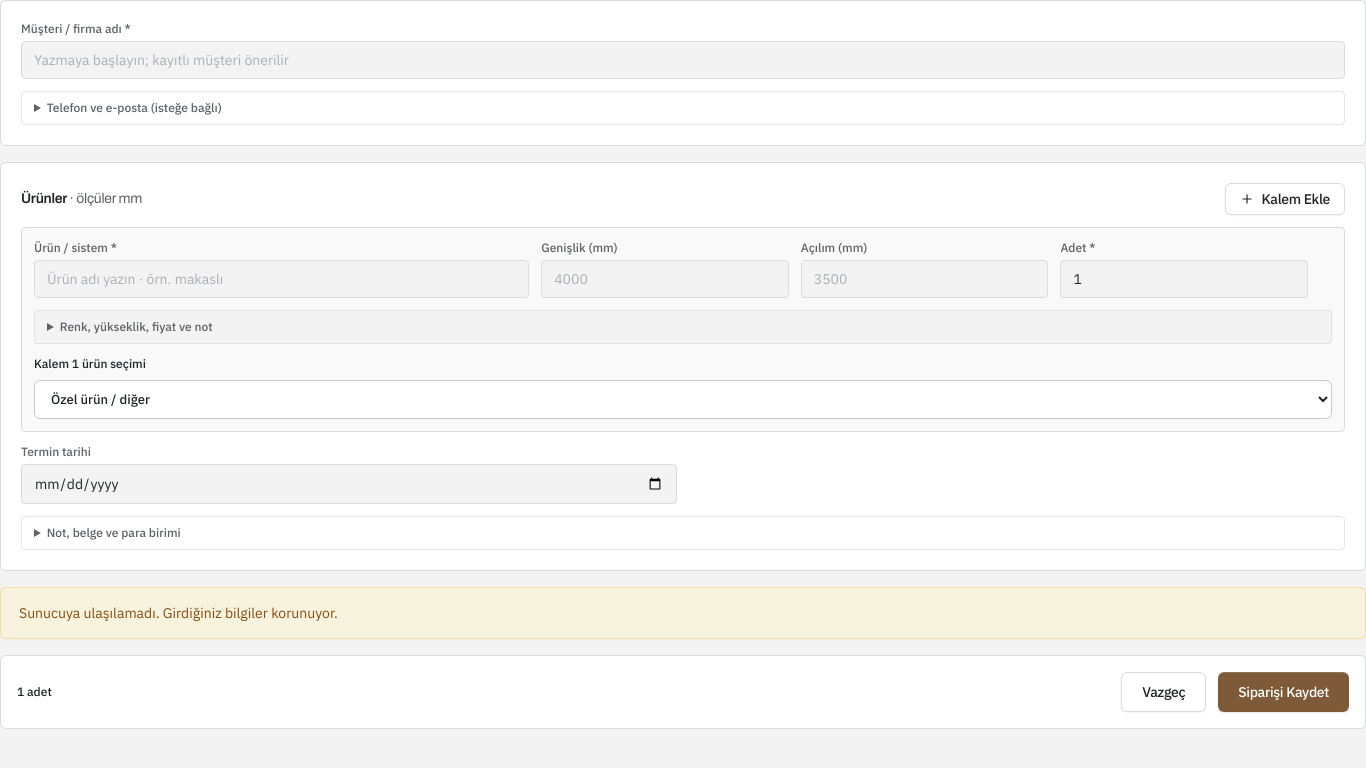
it: reports invalid dimensions without submitting and preserves the form after a server error
Step 1. Type "Renk Test" into the field labelled "Müşteri / firma adı *" → (683, 60), box [21,41,1345,79]
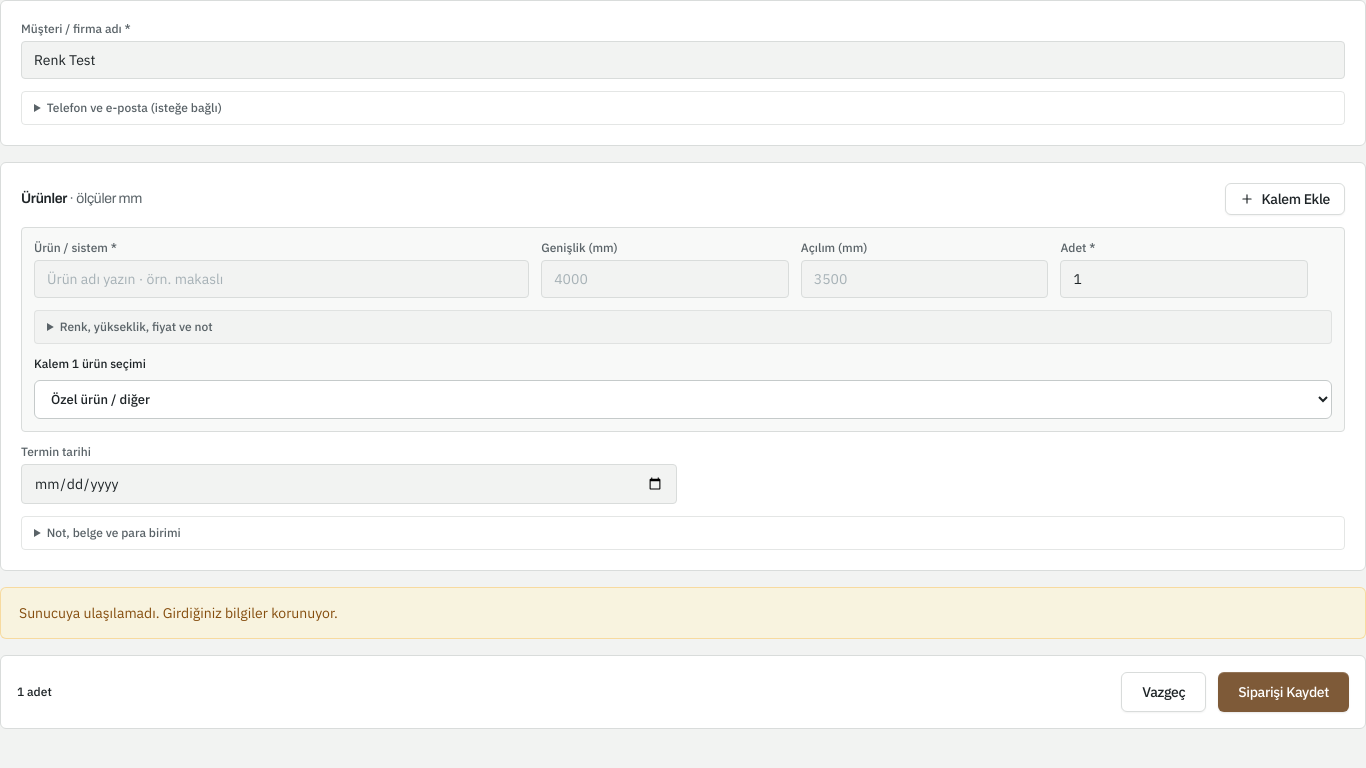
Step 2. Type "Profil çerçeve" into the dropdown labelled "Ürün / sistem *" → (282, 279), box [34,260,529,298]
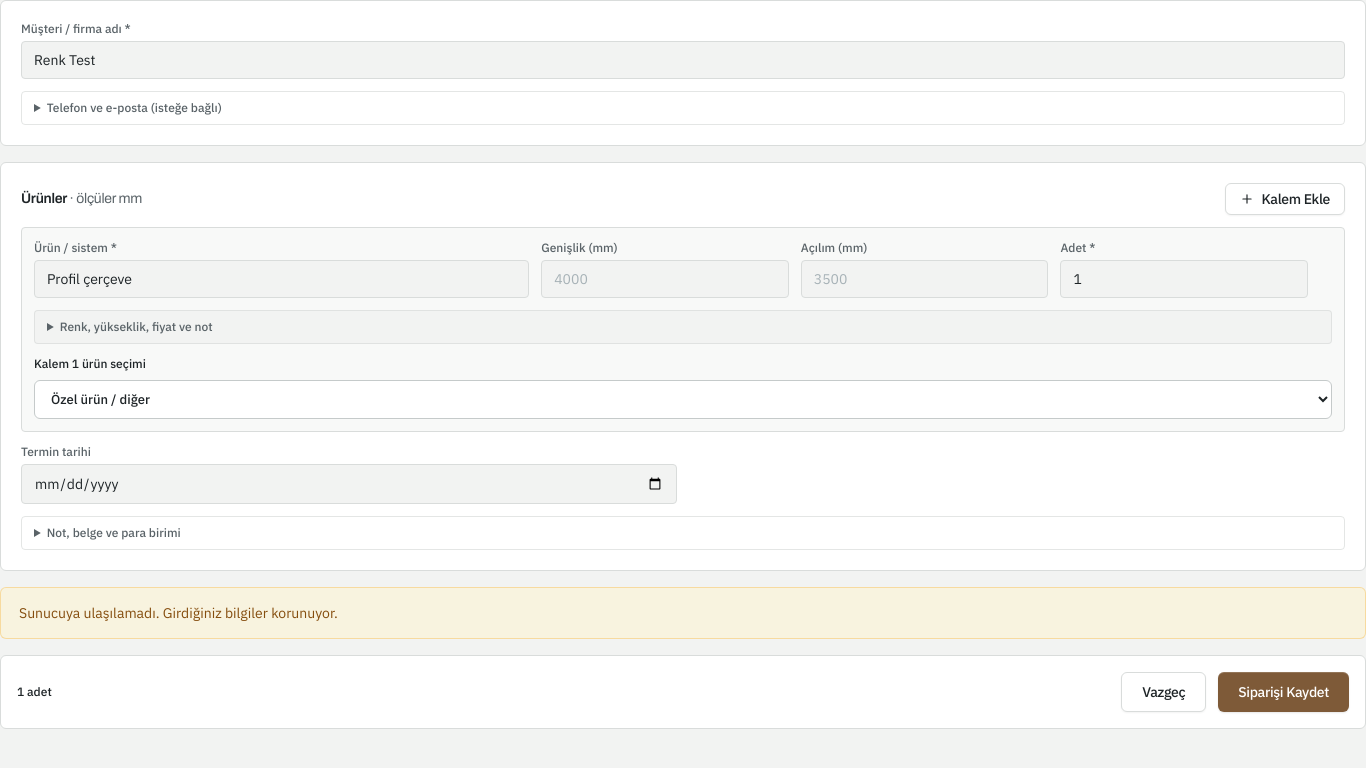
Step 3. Type "-5" into the number field labelled "Genişlik (mm)" → (665, 279), box [541,260,789,298]
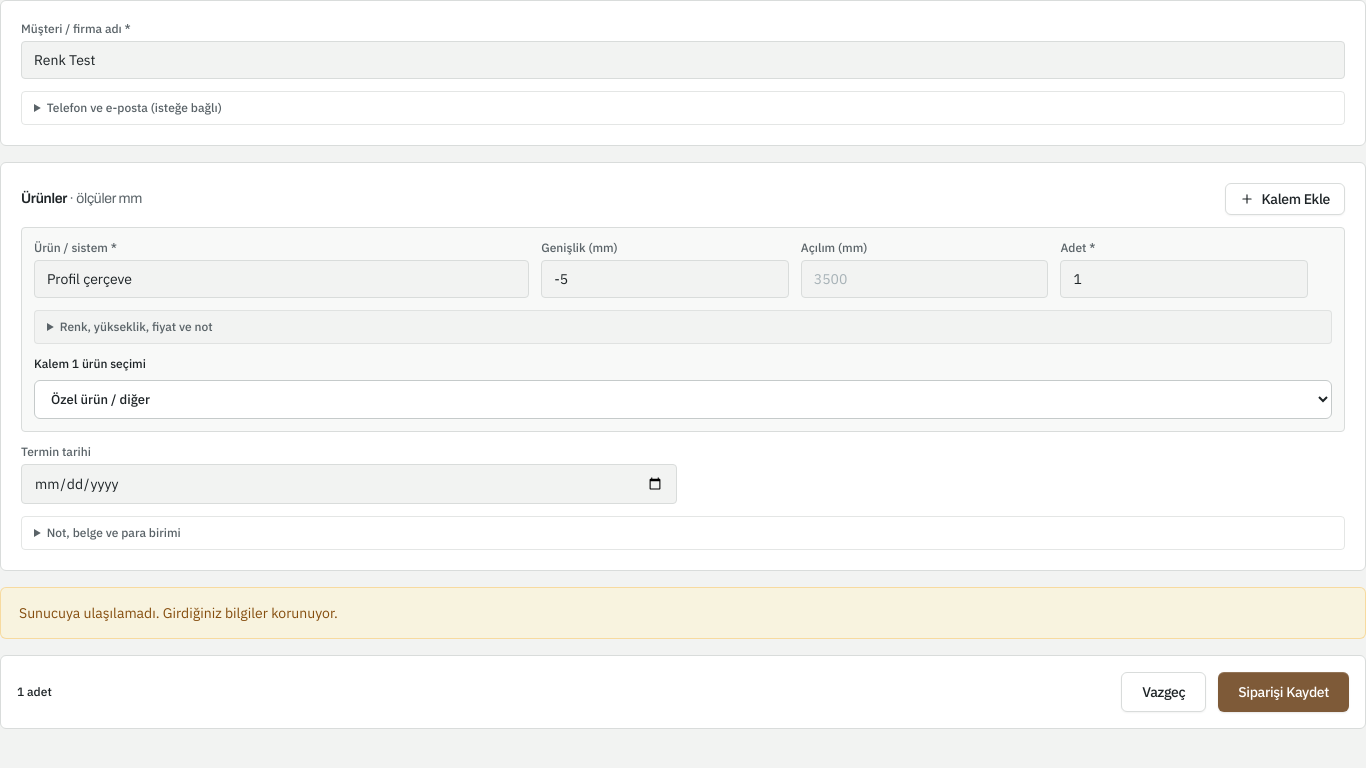
Step 4. Submit the form named "Siparişi Kaydet"
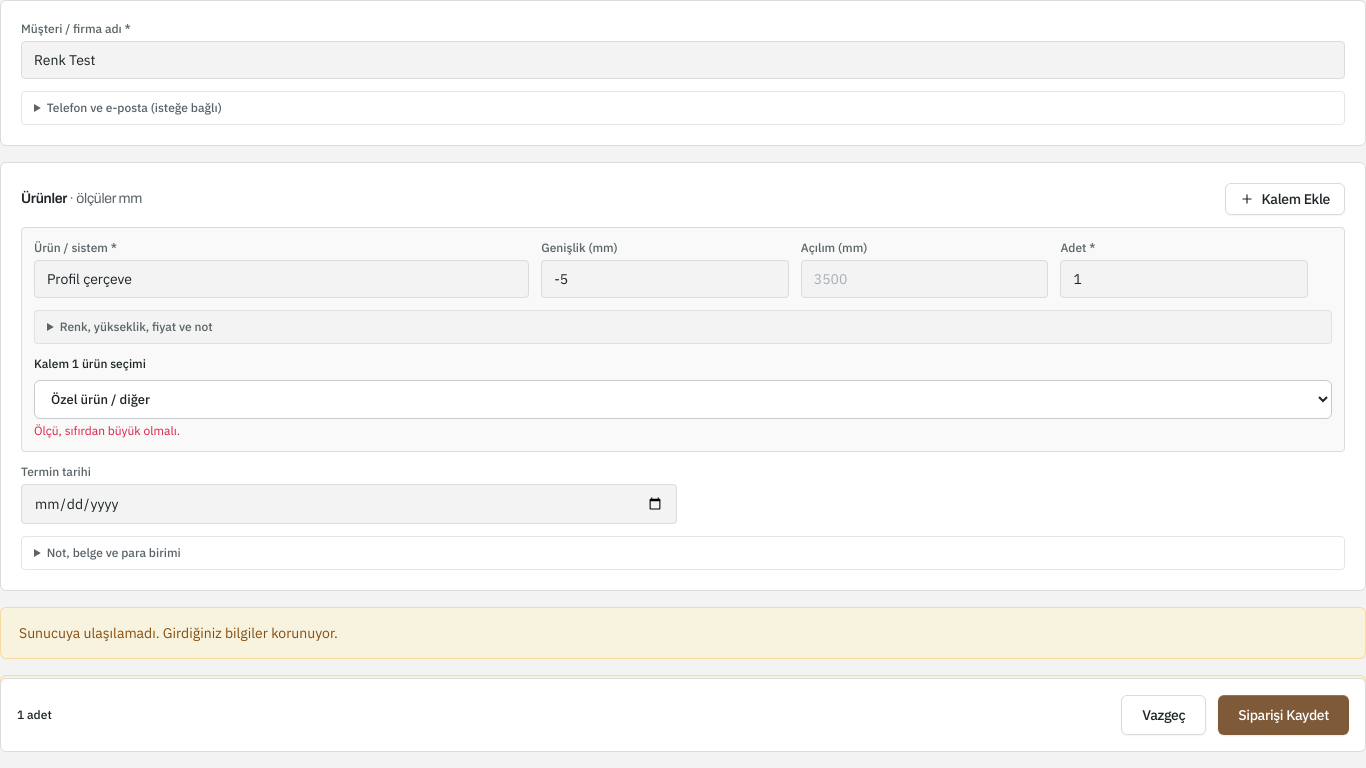
expect the text "Sunucuya ulaşılamadı. Girdiğiniz bilgiler korunuyor." is shown: met, box [0,607,1365,659]
expect the text "Ölçü, sıfırdan büyük olmalı." is shown: met, box [34,423,180,438]
